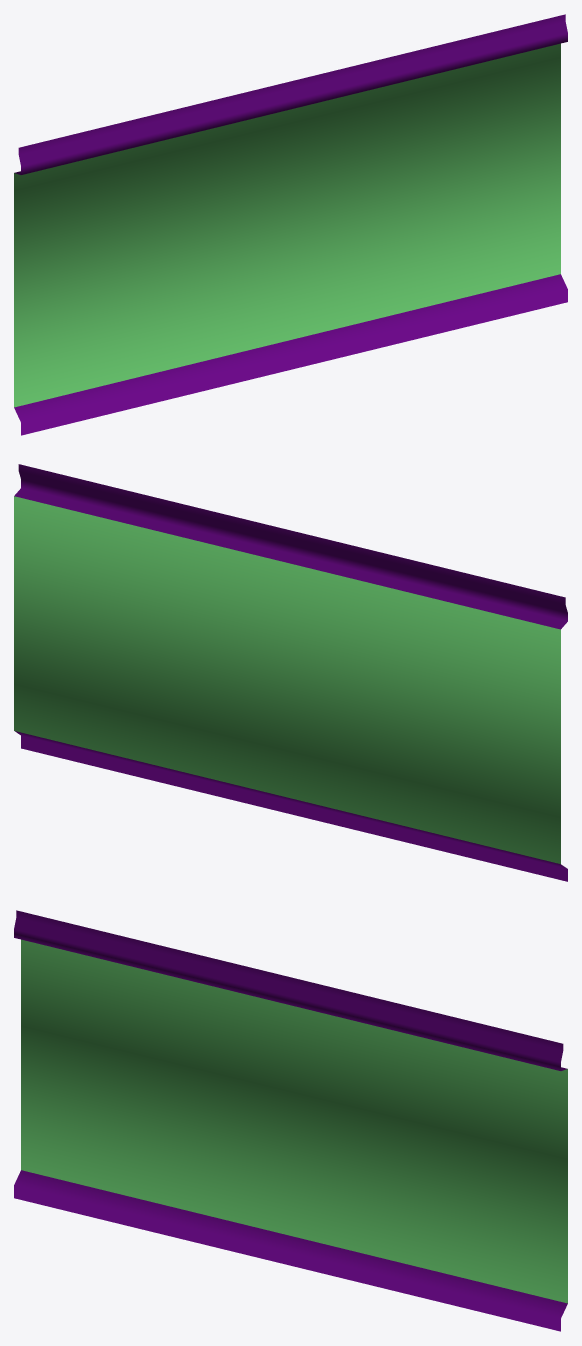
File: Wall_Main02.fbx
3 renders of one model, top to bottom at view 1: azimuth 30°, elevation 25°; view 2: azimuth 150°, elevation 25°; view 3: azimuth 330°, elevation 25°, orthographic.
Visible parts, largest first — view 1: Empty_Mesh; view 2: Empty_Mesh; view 3: Empty_Mesh.
Part boxes in pixels (box(x1,y1,x2,y2)): Empty_Mesh: box(14, 14, 567, 435); Empty_Mesh: box(14, 464, 567, 881); Empty_Mesh: box(14, 910, 567, 1331).
Size of the model in its own units: 2000 by 1000 by 45.
